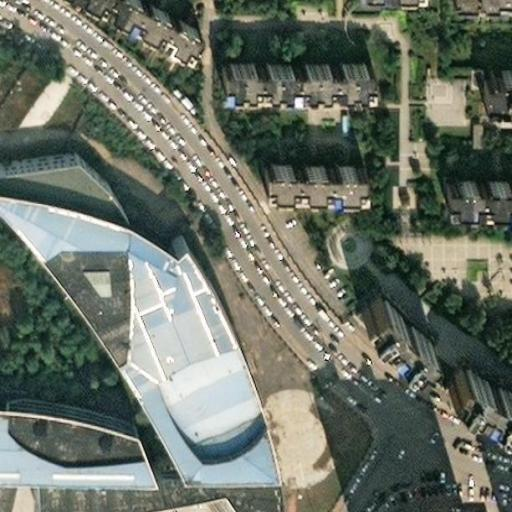building: (0, 136, 274, 512), (347, 277, 416, 345), (437, 350, 512, 411), (209, 48, 358, 75), (432, 162, 512, 189), (253, 150, 348, 172), (469, 58, 512, 86)
